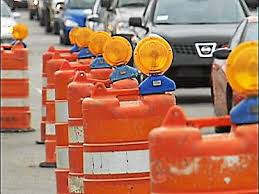barrel: (83, 93, 174, 194), (54, 74, 124, 194), (68, 79, 134, 194), (149, 127, 259, 192), (47, 65, 106, 163), (44, 52, 75, 139), (1, 48, 29, 131)
